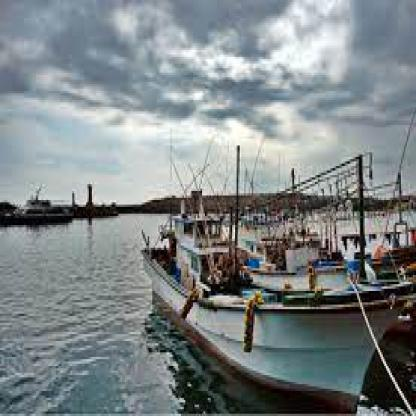fish-b: (132, 138, 402, 414)
